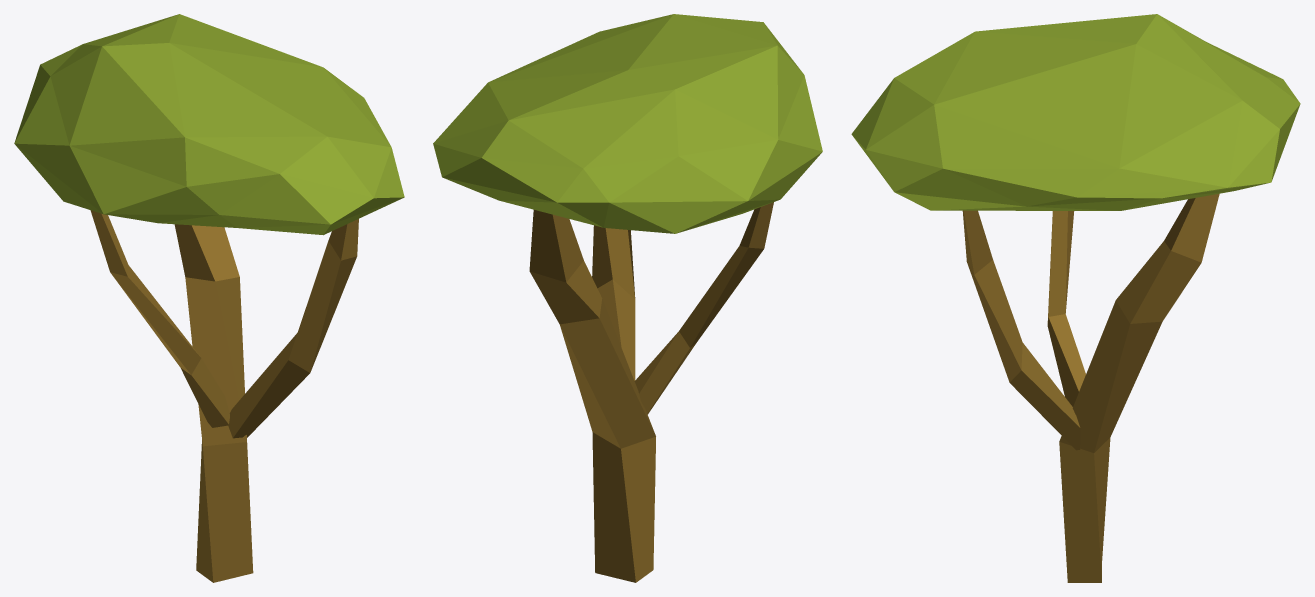
Rendered from AcaciaTree_3.fbx.
The picture shows the model from 3 angles, left to right: view 1: azimuth 30°, elevation 25°; view 2: azimuth 150°, elevation 25°; view 3: azimuth 270°, elevation 25°; orthographic projection. The views are drawn at different scales.
Visible parts, largest first — view 1: Leaves, Branch.001, Branch.002, Branch; view 2: Leaves, Branch.001, Branch, Branch.002; view 3: Leaves, Branch.001, Branch.002, Branch.
Boxes of the visible parts, box(x1,y1,x2,y2) form: Leaves: box(14, 14, 404, 235); Branch.001: box(174, 224, 253, 582); Branch.002: box(228, 219, 358, 438); Branch: box(90, 210, 229, 427); Leaves: box(433, 14, 822, 233); Branch.001: box(529, 210, 655, 582); Branch: box(634, 202, 773, 414); Branch.002: box(592, 225, 635, 380); Leaves: box(851, 14, 1300, 210); Branch.001: box(1059, 193, 1219, 582); Branch.002: box(962, 210, 1080, 450); Branch: box(1047, 211, 1085, 406).
Size of the model in its own units: 266 by 438 by 345.
